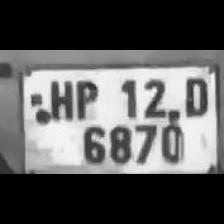0: (157, 117, 187, 163)
1: (112, 73, 140, 119)
2: (138, 74, 168, 118)
6: (76, 122, 108, 167)
7: (131, 119, 157, 165)
8: (106, 119, 132, 164)
D: (179, 72, 211, 120)
H: (46, 74, 74, 124)
P: (72, 74, 102, 120)
